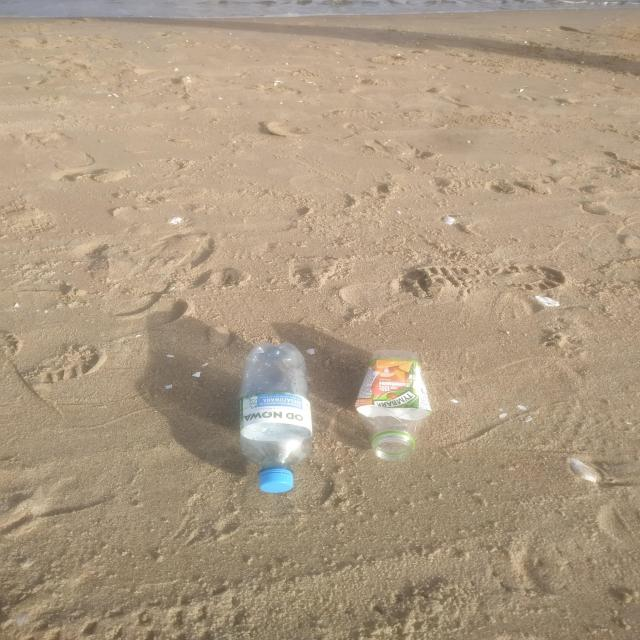litter: (239, 346, 312, 490), (354, 351, 428, 461)
